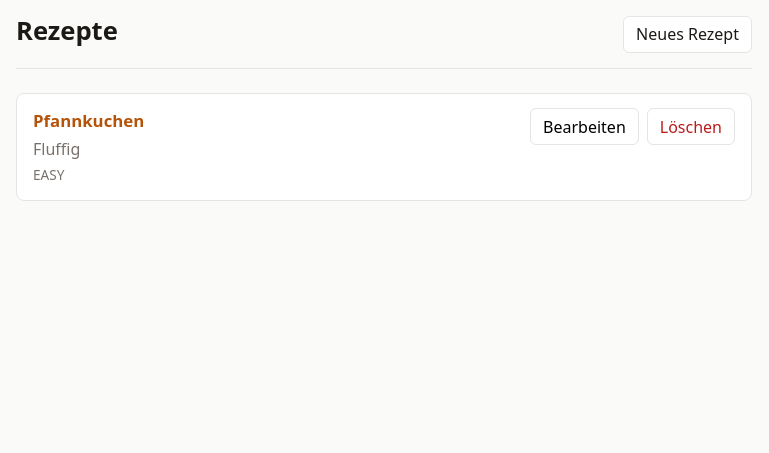
Scenario: App › should load the single recipe when one is opened
The image size is (769, 453).
Click the link "Pfannkuchen" at (89, 121), box x1=33 y1=109 x2=144 y2=132
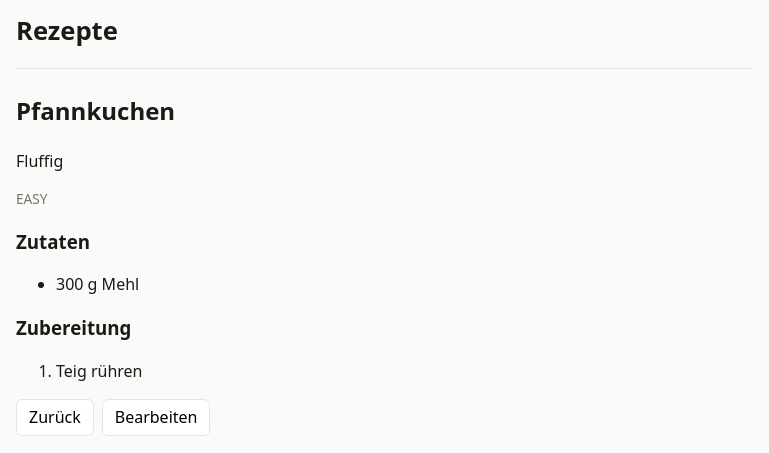
Check: the heading "Pfannkuchen" is shown, box x1=16 y1=94 x2=175 y2=127
Check: the list item "300 g Mehl" is shown, box x1=56 y1=273 x2=139 y2=295
